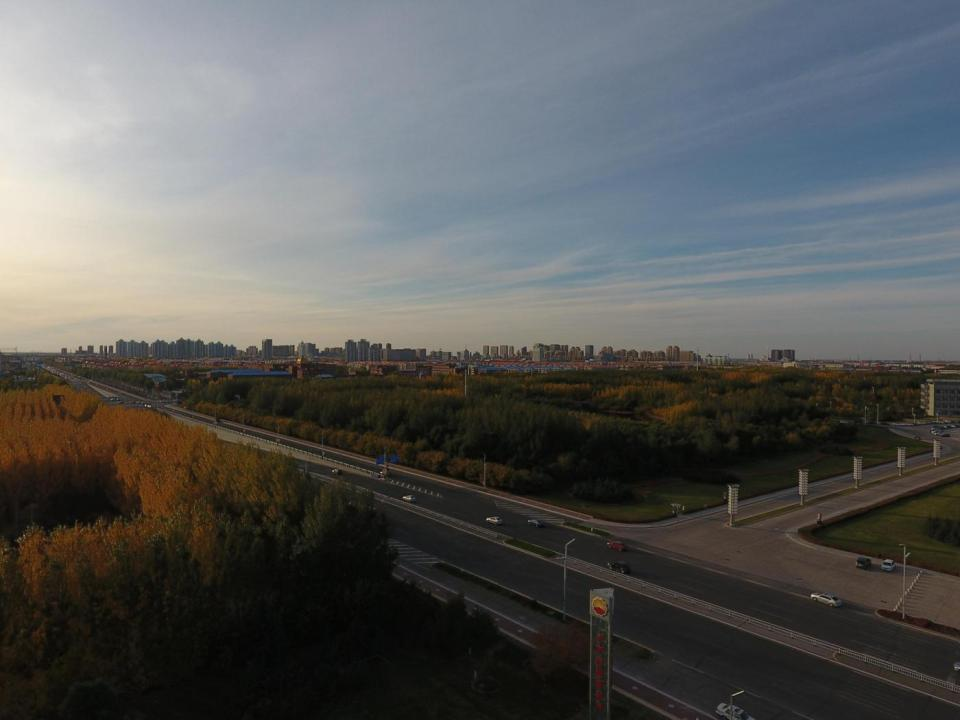car: (714, 701, 756, 720), (810, 591, 843, 608), (607, 560, 632, 575), (607, 540, 629, 552), (855, 555, 872, 570), (880, 559, 896, 572), (528, 518, 545, 528), (486, 516, 504, 525), (401, 494, 417, 502), (331, 468, 344, 475)
